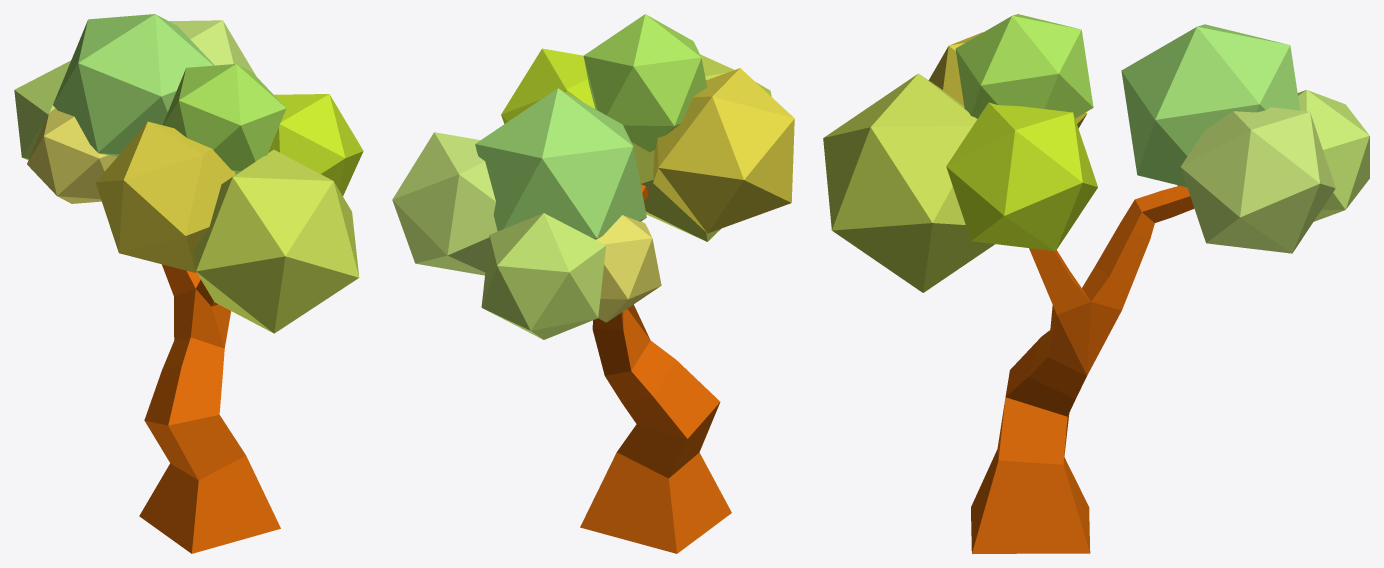
The model's file is tree_leaves.fbx.
The picture shows the model from 3 angles, left to right: view 1: azimuth 30°, elevation 25°; view 2: azimuth 150°, elevation 25°; view 3: azimuth 270°, elevation 25°; orthographic projection. The views are drawn at different scales.
Parts seen in each view (by area): view 1: Cube, Icosphere.003, Icosphere.004, Icosphere.006, Icosphere.005, Icosphere.002, Icosphere.007, Icosphere, Icosphere.001; view 2: Cube, Icosphere.004, Icosphere.006, Icosphere, Icosphere.001, Icosphere.005, Icosphere.007, Icosphere.002, Icosphere.003; view 3: Cube, Icosphere.003, Icosphere.001, Icosphere.004, Icosphere.002, Icosphere.005, Icosphere, Icosphere.006.
Part boxes in pixels (x1,y1,x2,y2): Cube: (139, 264, 280, 553); Icosphere.003: (194, 149, 359, 333); Icosphere.004: (53, 14, 214, 156); Icosphere.006: (95, 121, 235, 272); Icosphere.005: (163, 64, 286, 173); Icosphere.002: (268, 94, 363, 195); Icosphere.007: (27, 108, 117, 203); Icosphere: (14, 60, 70, 159); Icosphere.001: (169, 20, 256, 76); Cube: (580, 184, 731, 553); Icosphere.004: (475, 88, 646, 239); Icosphere.006: (653, 68, 794, 233); Icosphere: (481, 213, 605, 339); Icosphere.001: (392, 132, 497, 275); Icosphere.005: (583, 14, 706, 151); Icosphere.007: (596, 215, 661, 322); Icosphere.002: (501, 48, 595, 123); Icosphere.003: (631, 54, 771, 241); Cube: (971, 185, 1194, 553); Icosphere.003: (823, 73, 994, 292); Icosphere.001: (1180, 107, 1335, 253); Icosphere.004: (1121, 24, 1300, 187); Icosphere.002: (946, 102, 1097, 251); Icosphere.005: (955, 14, 1093, 118); Icosphere: (1297, 90, 1369, 221); Icosphere.006: (928, 32, 1087, 128).
Bounding box in the file's own units: 380 × 668 × 628.
